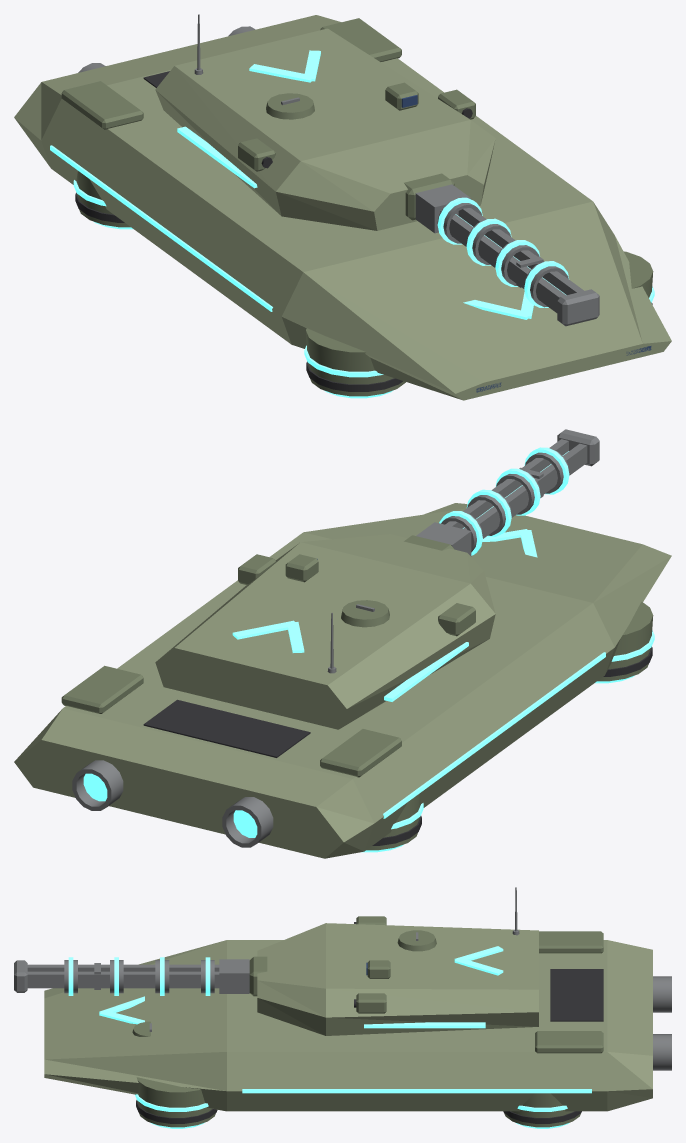
File: hover_tank_blue.glb
The picture shows the model from 3 angles, top to bottom: view 1: azimuth 30°, elevation 25°; view 2: azimuth 150°, elevation 25°; view 3: azimuth 270°, elevation 25°; orthographic projection. The views are drawn at different scales.
Parts seen in each view (by area): view 1: body, turret, gun; view 2: body, turret, gun; view 3: body, turret, gun.
Part boxes in pixels (box(x1,y1,x2,y2)): body: box(14, 15, 671, 400); turret: box(155, 14, 495, 230); gun: box(404, 173, 599, 326); body: box(14, 503, 671, 858); turret: box(155, 534, 495, 729); gun: box(404, 429, 599, 556); body: box(44, 931, 671, 1128); turret: box(257, 887, 538, 1035); gun: box(14, 956, 267, 996).
Bounding box in the file's own units: 4.02 × 2.25 × 8.65.
